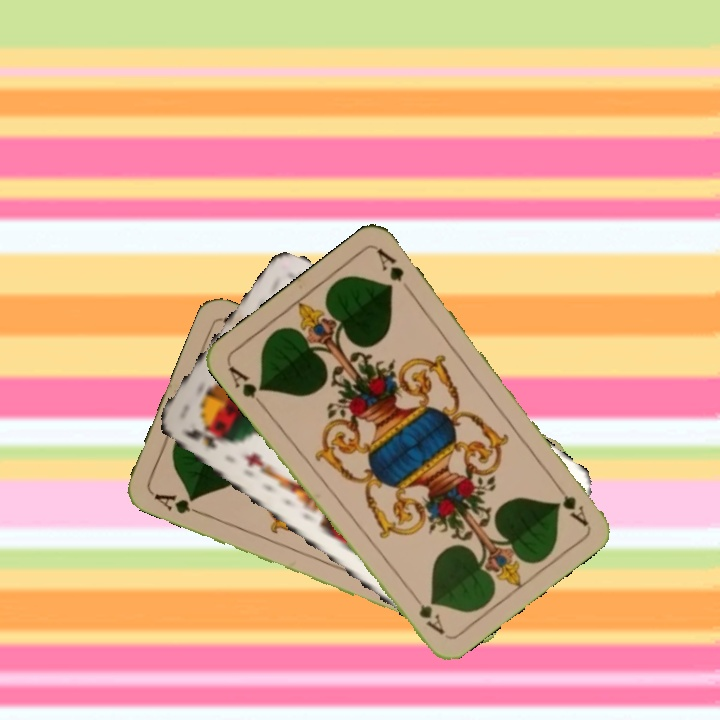GA: (224, 362, 268, 411), (549, 477, 591, 528), (150, 489, 206, 518)
SK: (178, 423, 227, 452)
